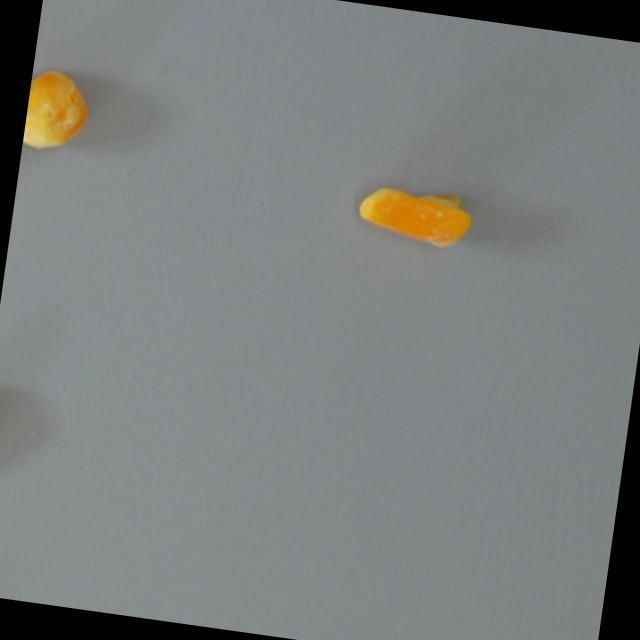pelicula: (17, 45, 116, 185), (352, 181, 475, 251), (0, 371, 15, 477)
